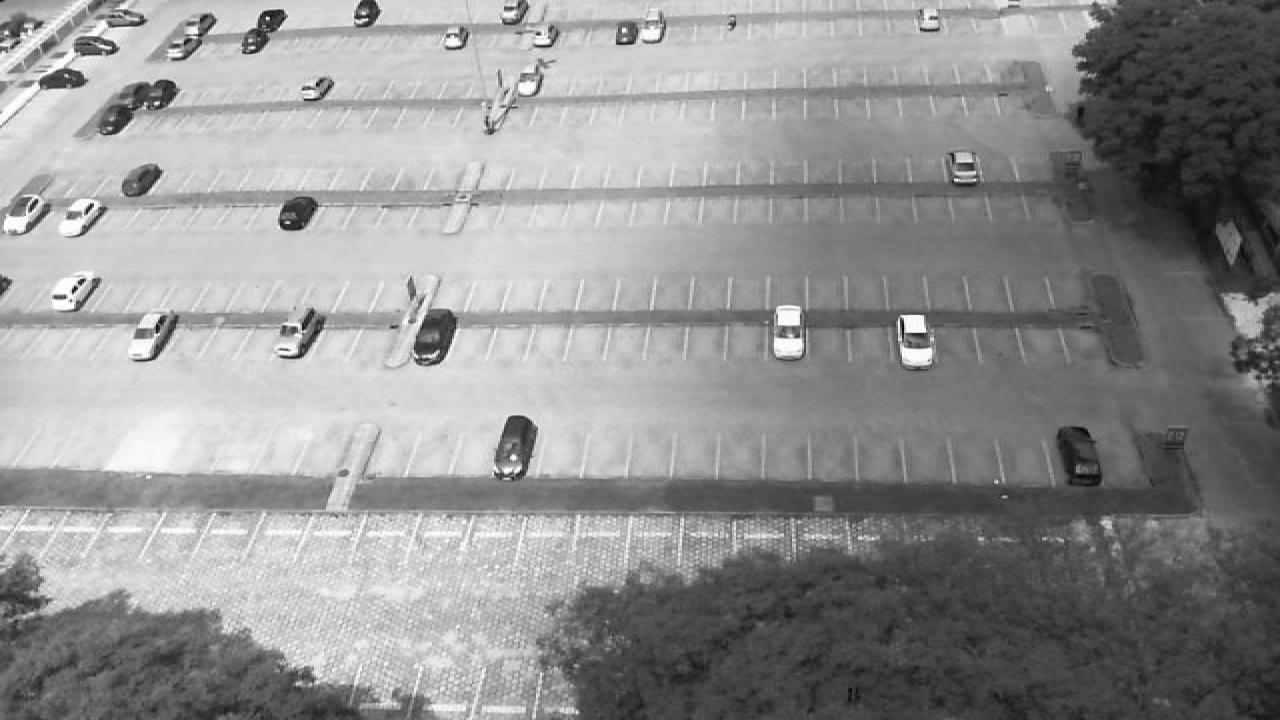Car: (1054, 425, 1104, 487), (492, 414, 538, 480), (410, 307, 458, 366), (274, 305, 324, 359), (126, 311, 178, 361), (768, 304, 808, 361), (896, 313, 936, 369), (2, 192, 50, 236), (50, 273, 102, 313), (58, 197, 106, 237), (276, 194, 320, 232), (120, 163, 162, 197), (96, 105, 138, 137), (946, 150, 980, 186), (116, 80, 154, 111), (164, 30, 202, 60), (40, 68, 90, 90), (514, 64, 546, 97), (300, 75, 336, 102), (74, 36, 120, 56), (150, 81, 180, 111), (640, 8, 664, 43), (186, 12, 218, 38), (254, 9, 288, 33), (240, 28, 270, 55), (352, 0, 382, 27), (498, 19, 528, 45), (102, 11, 146, 27), (916, 6, 942, 32), (614, 18, 638, 45), (440, 26, 466, 50), (502, 0, 530, 21)
